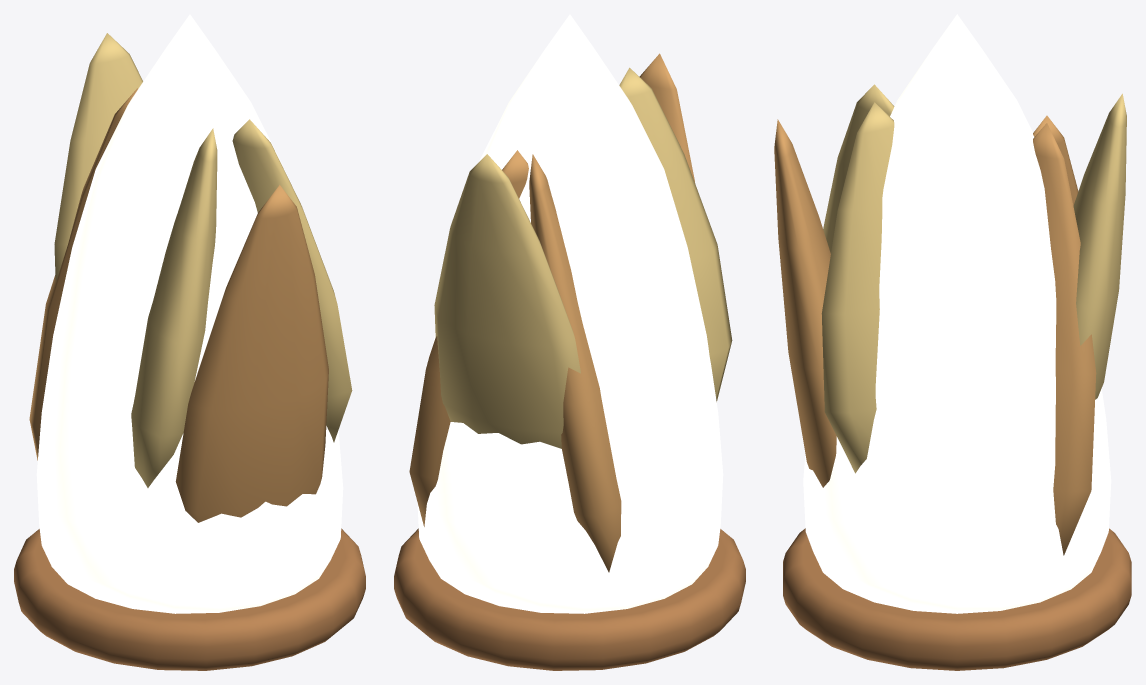
File: bamboo_shoot_lamp.glb
The picture shows the model from 3 angles, left to right: view 1: azimuth 30°, elevation 25°; view 2: azimuth 150°, elevation 25°; view 3: azimuth 270°, elevation 25°; orthographic projection.
Parts seen in each view (by area): view 1: bamboo_shoot_lamp_mesh; view 2: bamboo_shoot_lamp_mesh; view 3: bamboo_shoot_lamp_mesh.
Part boxes in pixels (left/top/right/bottom): bamboo_shoot_lamp_mesh: left=14, top=14, right=365, bottom=670; bamboo_shoot_lamp_mesh: left=394, top=14, right=745, bottom=670; bamboo_shoot_lamp_mesh: left=774, top=14, right=1131, bottom=670.
Size of the model in its own units: 0.26 by 0.48 by 0.2636.
